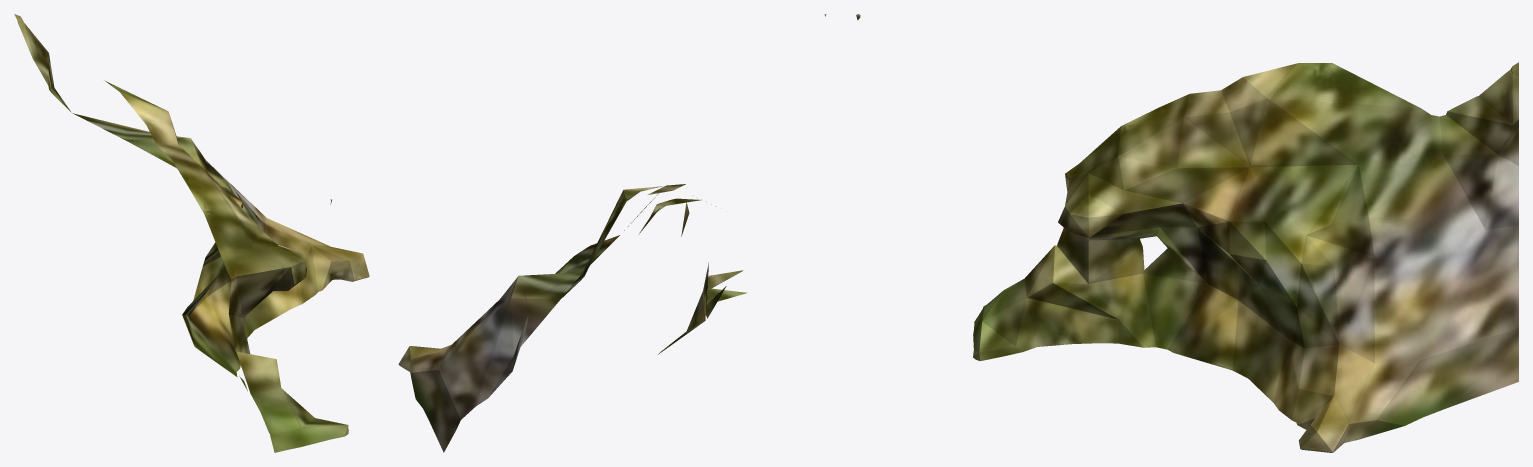
The picture shows the model from 3 angles, left to right: view 1: azimuth 30°, elevation 25°; view 2: azimuth 150°, elevation 25°; view 3: azimuth 270°, elevation 25°; orthographic projection. The views are drawn at different scales.
Bounding box in the file's own units: 0.7274 × 0.7939 × 1.55.
1 material, 1 textured.
